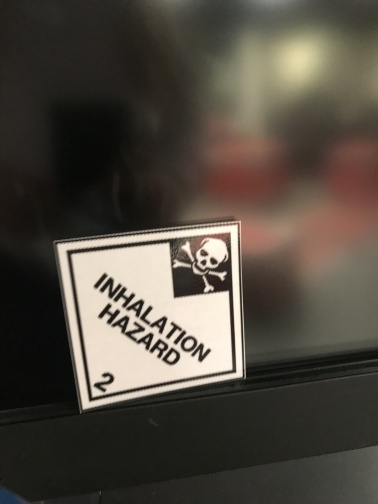InhalationHazard: (54, 220, 249, 411)
